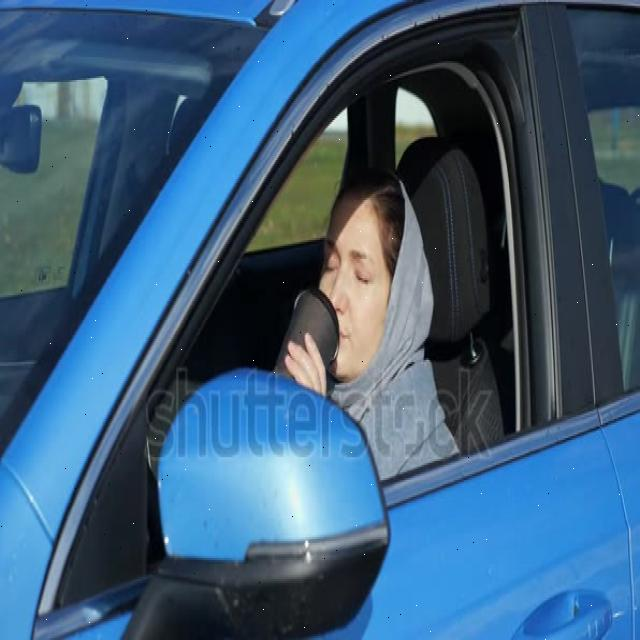human: (303, 189, 453, 524)
trash: (266, 270, 343, 399)
